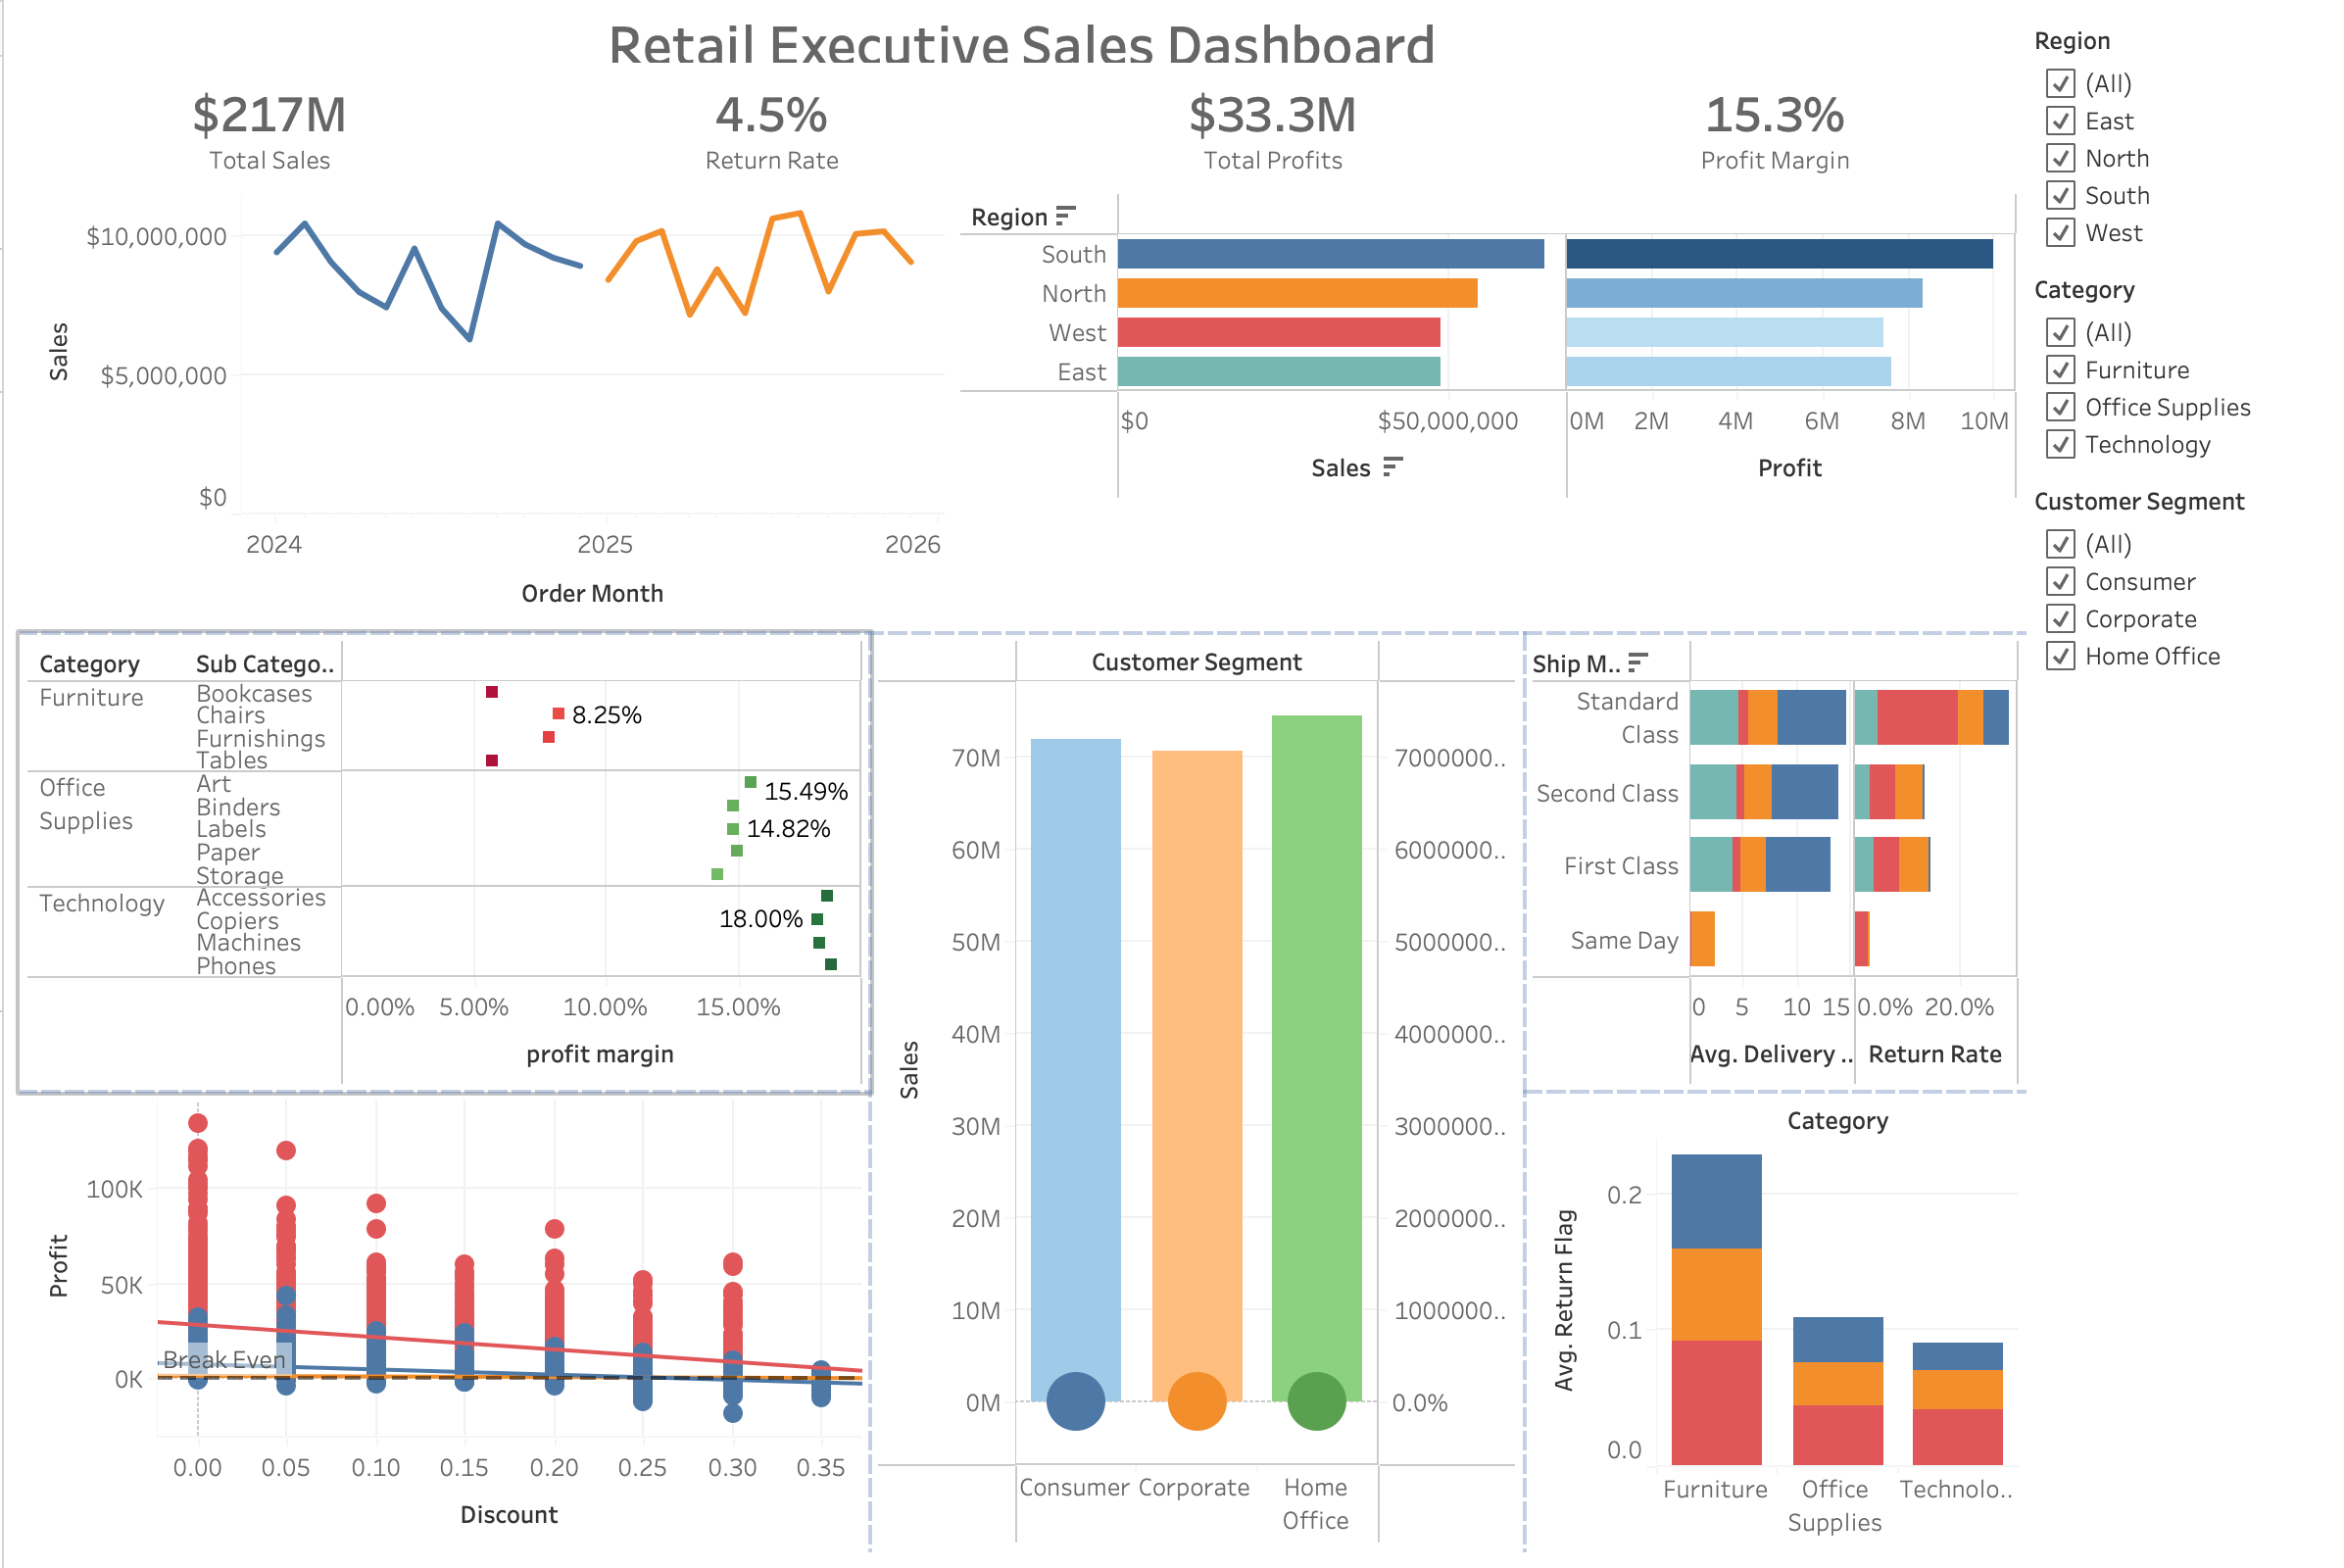

The dashboard page shown, as its layout file describes it:
{"tool":"tableau","page":{"name":"Executive Dashboard","canvas":[1200,900],"ordinal":0},"visuals":[{"type":"text","box":[8,8,1024,32]},{"type":"filter","title":"Regional Performance","param":"[federated.1n8rcuh06zpv3a16taudh02nfsnr].[none:region:nk]","box":[1032,8,160,127]},{"type":"text","box":[8,40,255.9,66.5]},{"type":"text","box":[263.9,40,256.1,66.5]},{"type":"text","box":[520,40,255.9,66.5]},{"type":"text","box":[775.9,40,256.1,66.5]},{"type":"worksheet","title":"Sales Trend View","mark":"Automatic","rows":["sales"],"cols":["order_date"],"box":[8,106.5,476,256.4]},{"type":"worksheet","title":"Regional Performance","mark":"Automatic","rows":["region"],"cols":["sales","profit"],"box":[484,106.5,548,256.4]},{"type":"filter","title":"Category Profitability","param":"[federated.1n8rcuh06zpv3a16taudh02nfsnr].[none:category:nk]","box":[1032,135,160,108]},{"type":"filter","title":"Return Analysis","param":"[federated.1n8rcuh06zpv3a16taudh02nfsnr].[none:customer_segment:nk]","box":[1032,243,160,108]},{"type":"worksheet","title":"Category Profitability","mark":"Square","rows":["category","sub_category"],"cols":["Calculation_3349267331444736"],"box":[8,362.9,434,264.6]},{"type":"worksheet","title":"Customer Segment View","mark":"Automatic","rows":["sales","Calculation_3349267332239363"],"cols":["customer_segment"],"box":[442,362.9,334,529.1]},{"type":"worksheet","title":"Shipping Performance","mark":"Automatic","rows":["ship_mode"],"cols":["delivery_days","Calculation_3349267332239363"],"box":[776,362.9,256,264.6]},{"type":"worksheet","title":"Discount vs Profit","mark":"Circle","rows":["profit"],"cols":["discount"],"box":[8,627.4,434,264.6]},{"type":"worksheet","title":"Return Analysis","mark":"Bar","rows":["return_flag"],"cols":["category"],"box":[776,627.4,256,264.6]}]}

Visuals, with their boxes on the page's 1200x900 design canvas (x1, y1, x2, y2). These are canvas units, not pixel positions in the 2344x1568 screenshot, which may show the page scaled, cropped or inside an application window:
text: <region>8, 8, 1032, 40</region>
"Regional Performance" filter: <region>1032, 8, 1192, 135</region>
text: <region>8, 40, 264, 106</region>
text: <region>264, 40, 520, 106</region>
text: <region>520, 40, 776, 106</region>
text: <region>776, 40, 1032, 106</region>
"Sales Trend View" worksheet: <region>8, 106, 484, 363</region>
"Regional Performance" worksheet: <region>484, 106, 1032, 363</region>
"Category Profitability" filter: <region>1032, 135, 1192, 243</region>
"Return Analysis" filter: <region>1032, 243, 1192, 351</region>
"Category Profitability" worksheet (Square marks): <region>8, 363, 442, 628</region>
"Customer Segment View" worksheet: <region>442, 363, 776, 892</region>
"Shipping Performance" worksheet: <region>776, 363, 1032, 628</region>
"Discount vs Profit" worksheet (Circle marks): <region>8, 627, 442, 892</region>
"Return Analysis" worksheet (Bar marks): <region>776, 627, 1032, 892</region>
